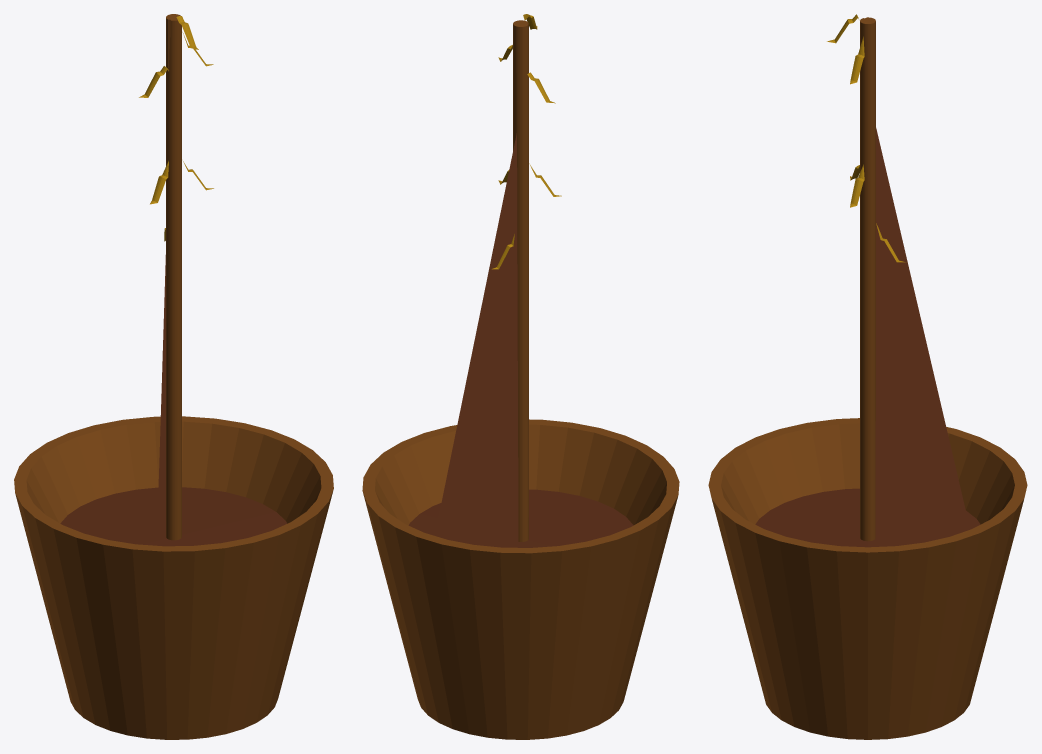
Rendered from PlantaSeca.fbx.
The picture shows the model from 3 angles, left to right: view 1: azimuth 30°, elevation 25°; view 2: azimuth 150°, elevation 25°; view 3: azimuth 270°, elevation 25°; orthographic projection.
Visible parts, largest first — view 1: Cilindro; view 2: Cilindro; view 3: Cilindro.
Part boxes in pixels (left/top/right/bottom): Cilindro: left=14, top=14, right=333, bottom=739; Cilindro: left=362, top=14, right=679, bottom=739; Cilindro: left=708, top=14, right=1027, bottom=739.
Bounding box in the file's own units: 457 × 1076 × 457.
